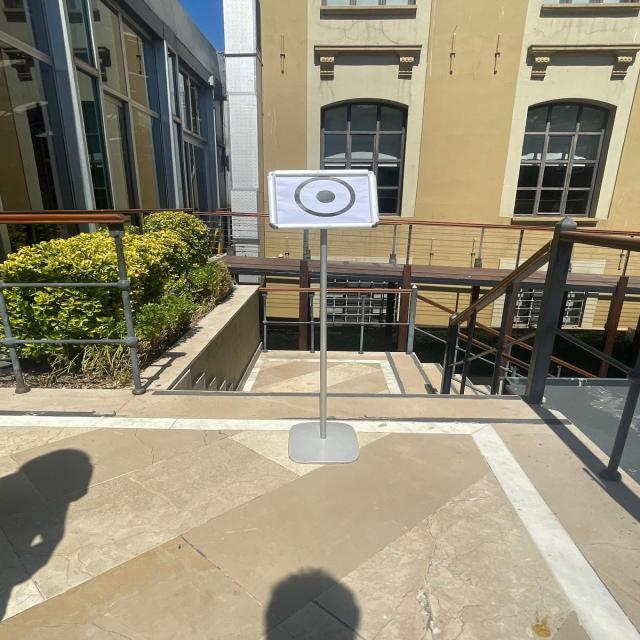Target: (248, 161, 402, 232)
inner: (310, 184, 340, 211)
